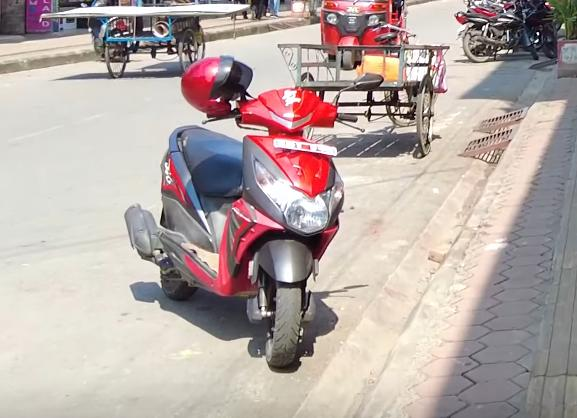auto_rickshaw: (314, 0, 409, 71)
scooter: (126, 82, 399, 378)
